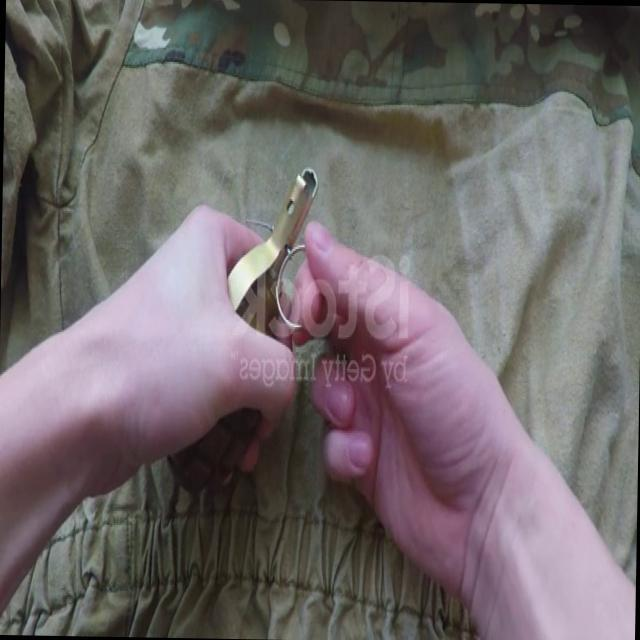grenade: (169, 165, 313, 493)
